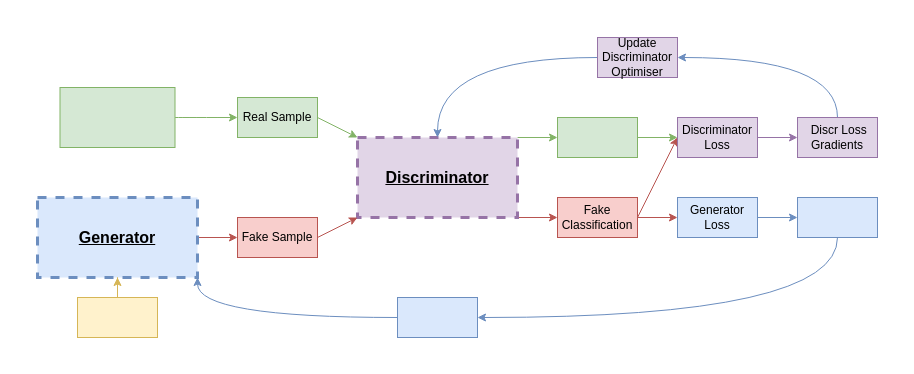
The diagram is 914 pixels wide and 374 high, and some of its shapes have lost their labels. The shapes that lost their labels are listed below. From the top down, each one's centre as x and y in pixels, then its label:
At pixel 117 117: "Real Data".
At pixel 597 137: "Real Classification".
At pixel 837 217: "Gen Loss Gradients".
At pixel 117 317: "Random Input".
At pixel 437 317: "Update Generator Optimiser".
